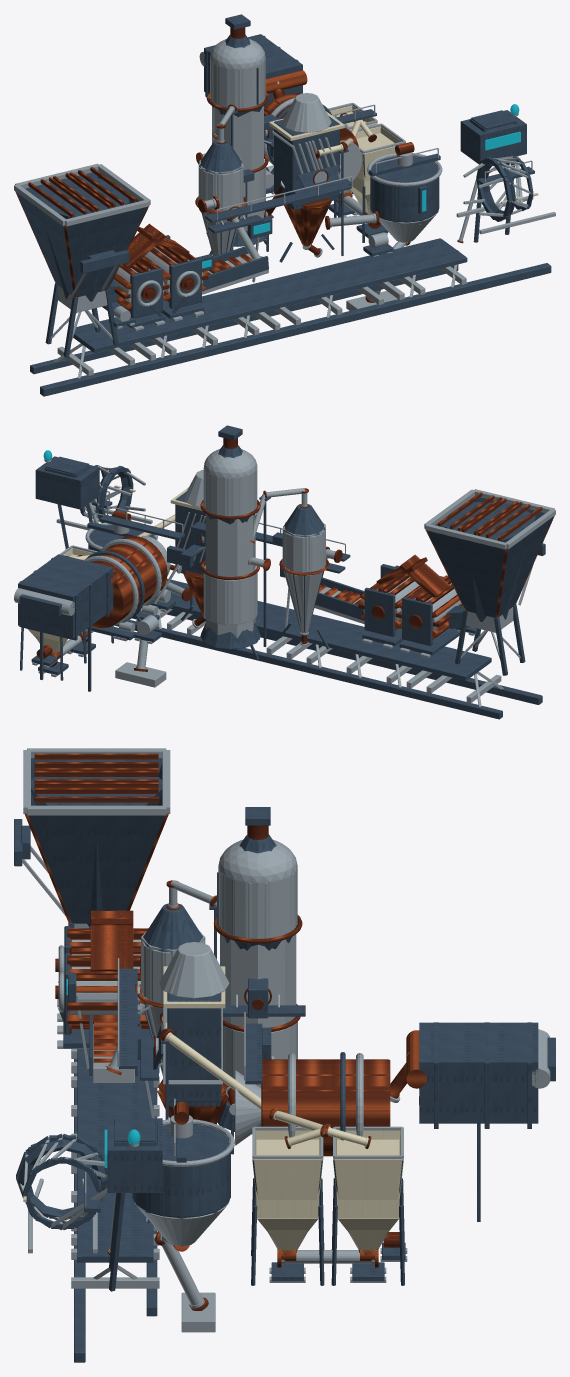
Rendered from place_station_refinery.glb.
3 renders of one model, top to bottom at view 1: azimuth 30°, elevation 25°; view 2: azimuth 150°, elevation 25°; view 3: azimuth 270°, elevation 25°, orthographic. The views are drawn at different scales.
Parts seen in each view (by area): view 1: LOD0_Station_Material_Hull, LOD0_Station_Material_Mechanical, LOD1_Station_Material_Hull, LOD0_Station_Material_Warm, LOD1_Station_Material_Mechanical, LOD2_Station_Material_Hull, LOD1_Station_Material_Warm, LOD2_Station_Material_Mechanical, LOD0_Station_Material_Accent, LOD2_Station_Material_Warm, LOD2_Station_Material_Accent, LOD1_Station_Material_Accent; view 2: LOD0_Station_Material_Hull, LOD0_Station_Material_Mechanical, LOD1_Station_Material_Hull, LOD2_Station_Material_Hull, LOD0_Station_Material_Warm, LOD1_Station_Material_Mechanical, LOD2_Station_Material_Mechanical, LOD1_Station_Material_Warm, LOD0_Station_Material_Accent; view 3: LOD0_Station_Material_Hull, LOD0_Station_Material_Mechanical, LOD0_Station_Material_Warm, LOD2_Station_Material_Hull, LOD1_Station_Material_Hull, LOD0_Station_Material_Accent, LOD1_Station_Material_Mechanical, LOD1_Station_Material_Warm, LOD2_Station_Material_Accent, LOD2_Station_Material_Mechanical, LOD1_Station_Material_Accent.
Part boxes in pixels (x1=…): LOD0_Station_Material_Hull: x1=16, y1=14, x2=551, y2=396; LOD0_Station_Material_Mechanical: x1=14, y1=38, x2=555, y2=378; LOD1_Station_Material_Hull: x1=30, y1=35, x2=534, y2=395; LOD0_Station_Material_Warm: x1=15, y1=27, x2=463, y2=311; LOD1_Station_Material_Mechanical: x1=50, y1=52, x2=555, y2=378; LOD2_Station_Material_Hull: x1=35, y1=34, x2=526, y2=351; LOD1_Station_Material_Warm: x1=28, y1=28, x2=460, y2=306; LOD2_Station_Material_Mechanical: x1=199, y1=52, x2=437, y2=256; LOD0_Station_Material_Accent: x1=269, y1=105, x2=538, y2=214; LOD2_Station_Material_Warm: x1=130, y1=201, x2=331, y2=316; LOD2_Station_Material_Accent: x1=336, y1=112, x2=394, y2=206; LOD1_Station_Material_Accent: x1=269, y1=111, x2=522, y2=214; LOD0_Station_Material_Hull: x1=19, y1=425, x2=553, y2=718; LOD0_Station_Material_Mechanical: x1=14, y1=449, x2=555, y2=706; LOD1_Station_Material_Hull: x1=19, y1=458, x2=539, y2=719; LOD2_Station_Material_Hull: x1=18, y1=445, x2=535, y2=679; LOD0_Station_Material_Warm: x1=36, y1=438, x2=554, y2=671; LOD1_Station_Material_Mechanical: x1=14, y1=460, x2=530, y2=706; LOD2_Station_Material_Mechanical: x1=17, y1=513, x2=325, y2=638; LOD1_Station_Material_Warm: x1=38, y1=438, x2=542, y2=662; LOD0_Station_Material_Accent: x1=34, y1=481, x2=201, y2=653; LOD0_Station_Material_Hull: x1=14, y1=758, x2=555, y2=1362; LOD0_Station_Material_Mechanical: x1=18, y1=748, x2=550, y2=1332; LOD0_Station_Material_Warm: x1=24, y1=753, x2=426, y2=1310; LOD2_Station_Material_Hull: x1=18, y1=759, x2=538, y2=1262; LOD1_Station_Material_Hull: x1=16, y1=825, x2=531, y2=1336; LOD0_Station_Material_Accent: x1=23, y1=966, x2=403, y2=1250; LOD1_Station_Material_Mechanical: x1=22, y1=808, x2=549, y2=1288; LOD1_Station_Material_Warm: x1=34, y1=753, x2=426, y2=1266; LOD2_Station_Material_Accent: x1=256, y1=1139, x2=399, y2=1236; LOD2_Station_Material_Mechanical: x1=141, y1=931, x2=547, y2=1246; LOD1_Station_Material_Accent: x1=23, y1=966, x2=402, y2=1190.
Size of what is drawn, in the model's own units: 98 by 55.5 by 63.85.
5 materials, 5 textured.
